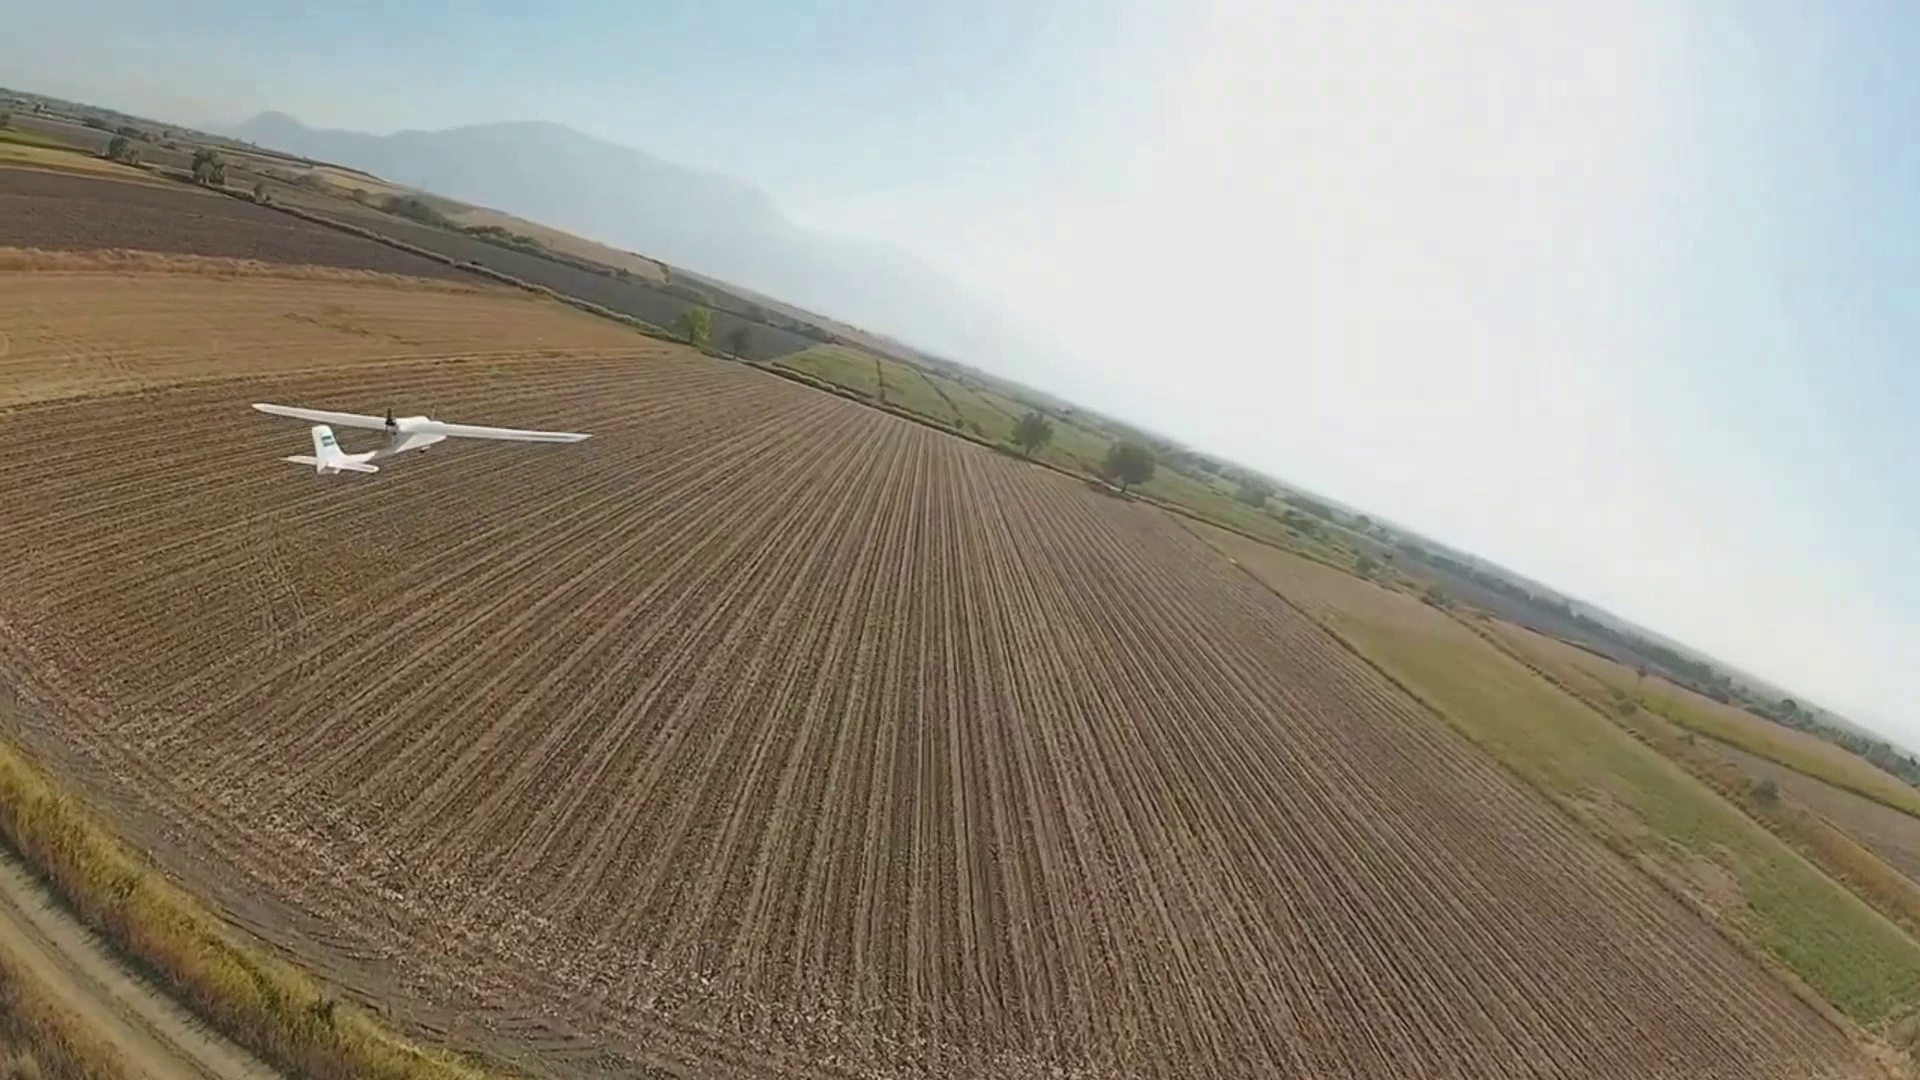airplane: (246, 403, 589, 474), (248, 402, 448, 478)
